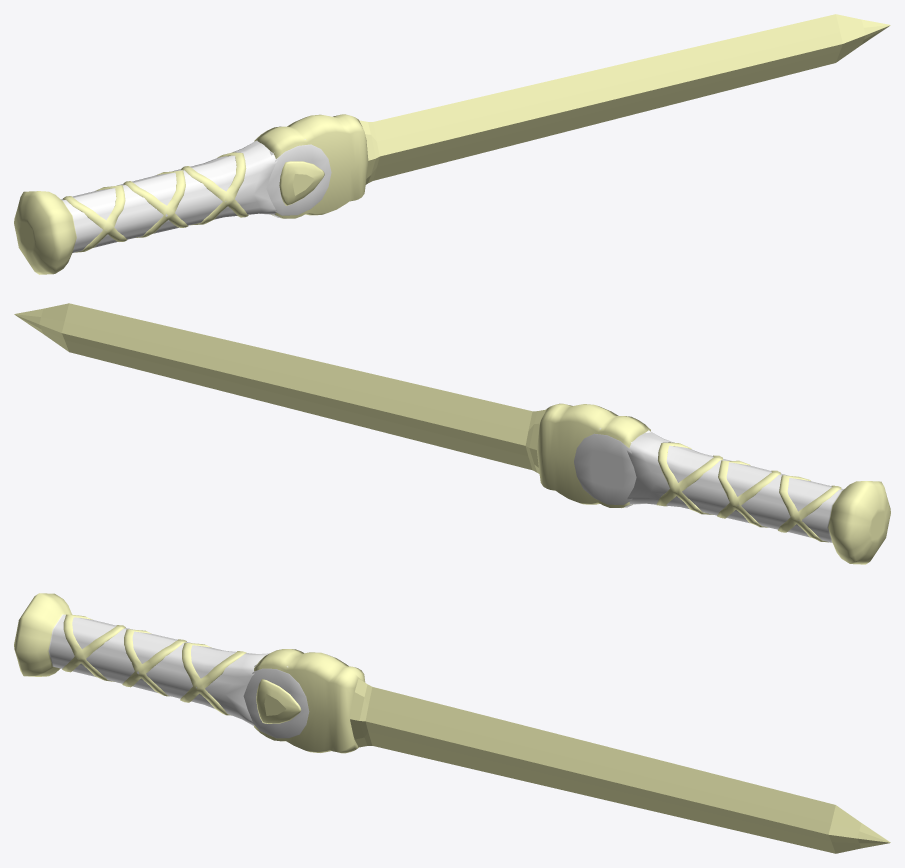
Rendered from quartzSword_06.fbx.
3 views of the same model, one above another, from view 1: azimuth 30°, elevation 25°; view 2: azimuth 150°, elevation 25°; view 3: azimuth 330°, elevation 25° (orthographic).
Parts seen in each view (by area): view 1: quartzBlade, hilt, quartzCrossguard, hiltDisc, quartzGEM, hiltGemX_GEO_03, hiltGemX_GEO_01, hiltGemX_GEO_02; view 2: quartzBlade, hilt, quartzCrossguard, hiltDisc, hiltGemX_GEO_03, hiltGemX_GEO_02, hiltGemX_GEO_01; view 3: quartzBlade, hilt, quartzCrossguard, hiltDisc, quartzGEM, hiltGemX_GEO_03, hiltGemX_GEO_01, hiltGemX_GEO_02.
Boxes of the visible parts, x1,y1,x2,y2 form: quartzBlade: [359, 14, 890, 184]; hilt: [14, 141, 277, 274]; quartzCrossguard: [254, 114, 368, 218]; hiltDisc: [256, 139, 331, 217]; quartzGEM: [279, 161, 324, 205]; hiltGemX_GEO_03: [181, 152, 248, 225]; hiltGemX_GEO_01: [63, 185, 127, 252]; hiltGemX_GEO_02: [123, 170, 188, 237]; quartzBlade: [14, 303, 545, 473]; hilt: [626, 431, 890, 564]; quartzCrossguard: [537, 403, 650, 508]; hiltDisc: [574, 428, 650, 507]; hiltGemX_GEO_03: [656, 442, 722, 514]; hiltGemX_GEO_02: [717, 460, 780, 527]; hiltGemX_GEO_01: [778, 475, 841, 542]; quartzBlade: [350, 678, 890, 853]; hilt: [14, 593, 269, 725]; quartzCrossguard: [254, 649, 365, 753]; hiltDisc: [243, 664, 309, 738]; quartzGEM: [256, 679, 301, 723]; hiltGemX_GEO_03: [180, 643, 246, 715]; hiltGemX_GEO_01: [62, 614, 125, 681]; hiltGemX_GEO_02: [122, 629, 186, 696].
Size of the model in its own units: 57.47 by 6.22 by 5.22.
